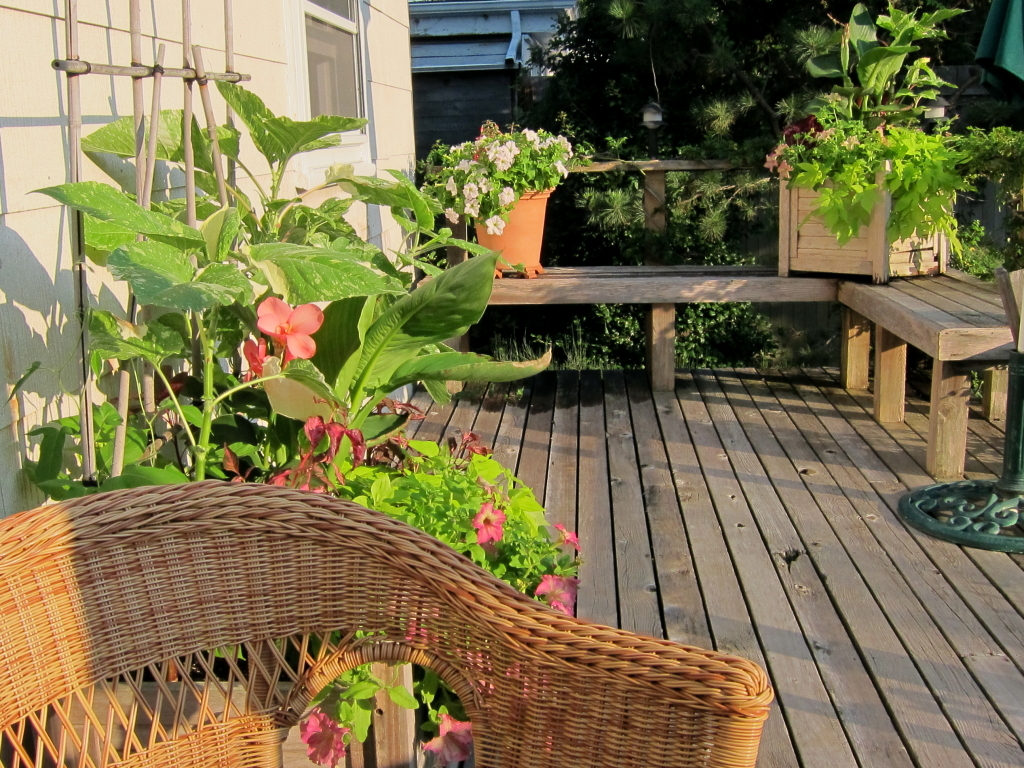Tree: (498, 0, 1023, 396)
